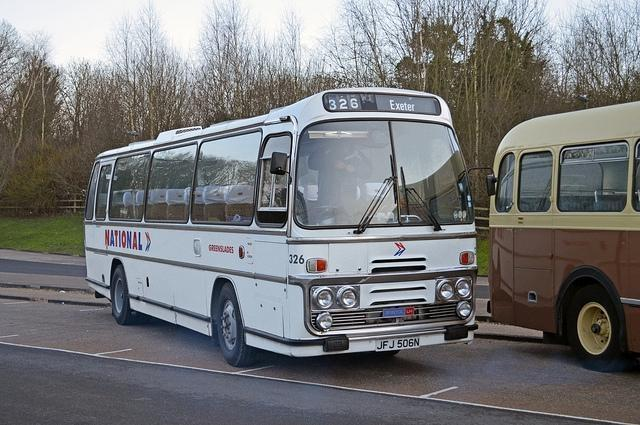bus: (85, 85, 497, 368), (485, 101, 640, 372)
